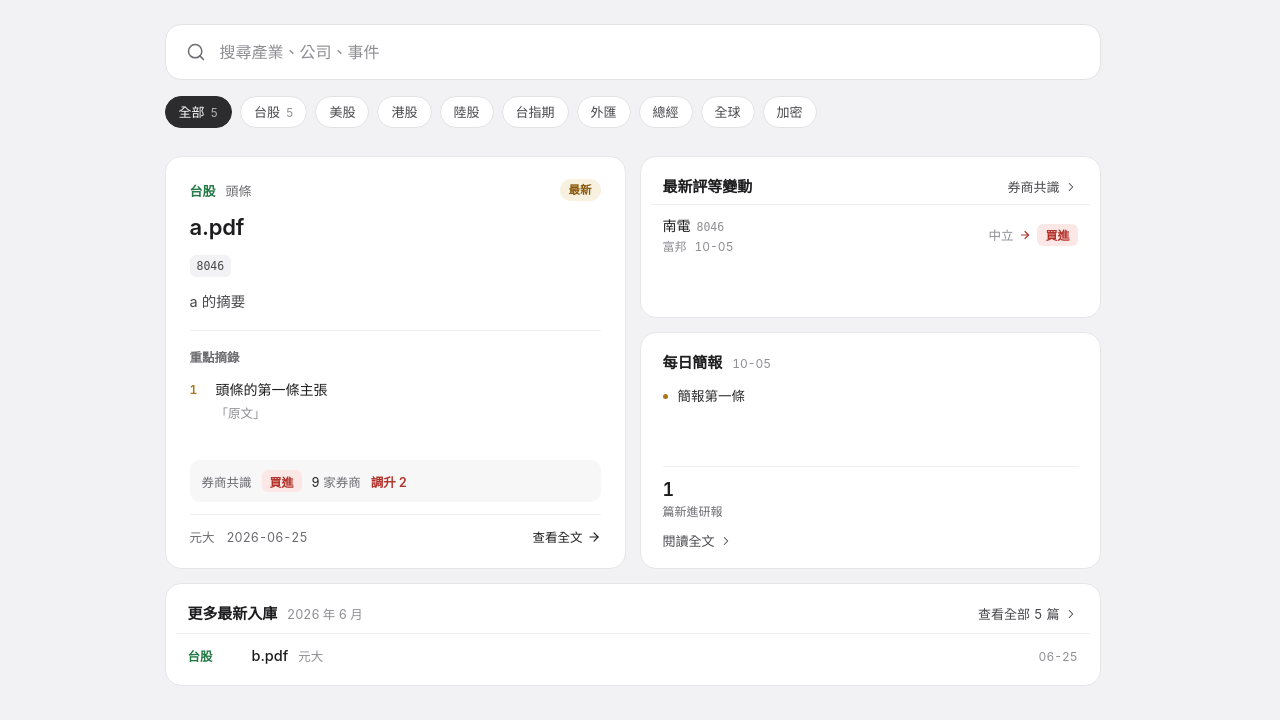
Test case: SearchPage 首頁 › 點更多最新入庫的一篇 → 預覽彈窗，可開閱讀頁或就這篇提問
Click the link "台股 b.pdf 元大 06-25": [270, 656] box [176,633,1090,677]
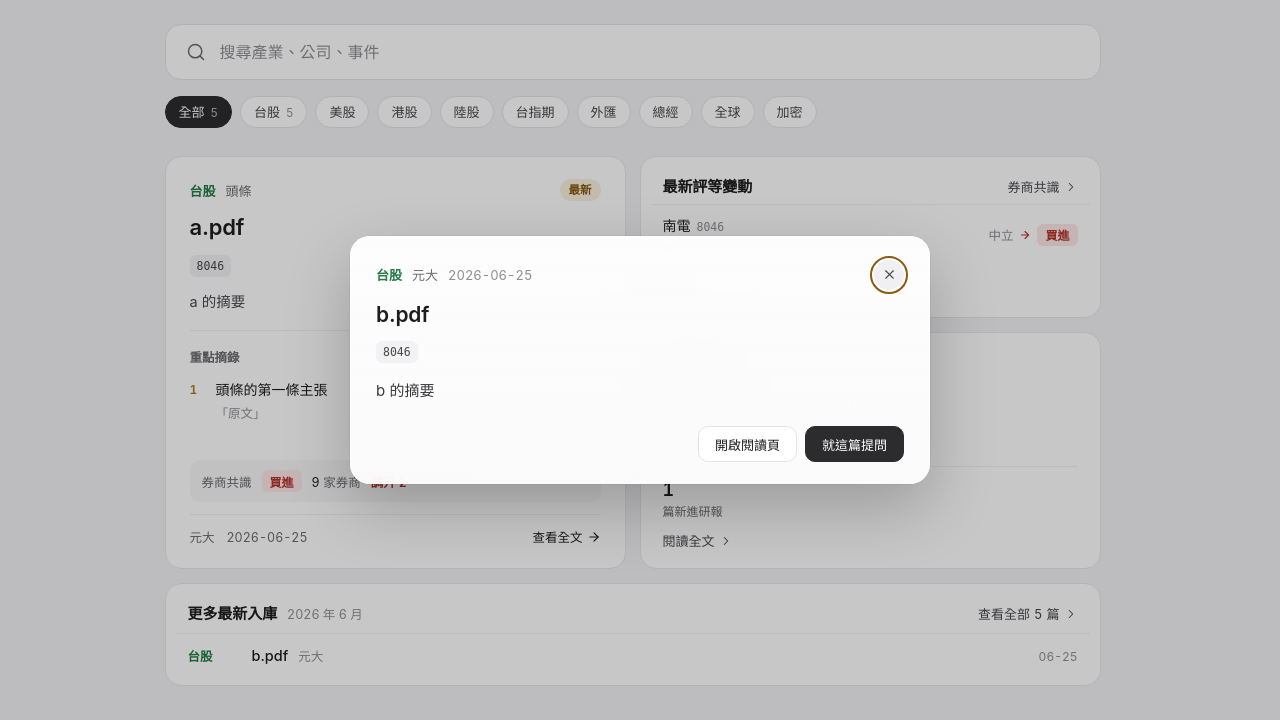
Now the text "b 的摘要" is shown, box [376,381,434,400]
Press Escape
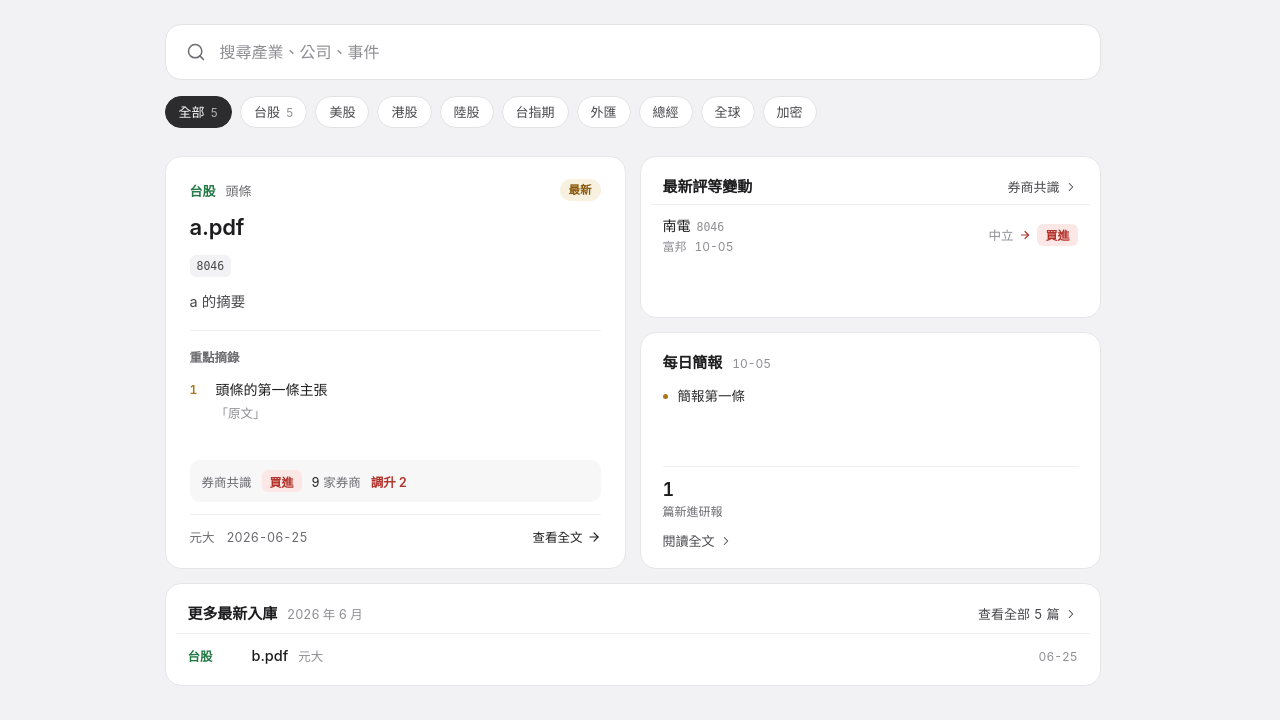
Now the dialog is gone
